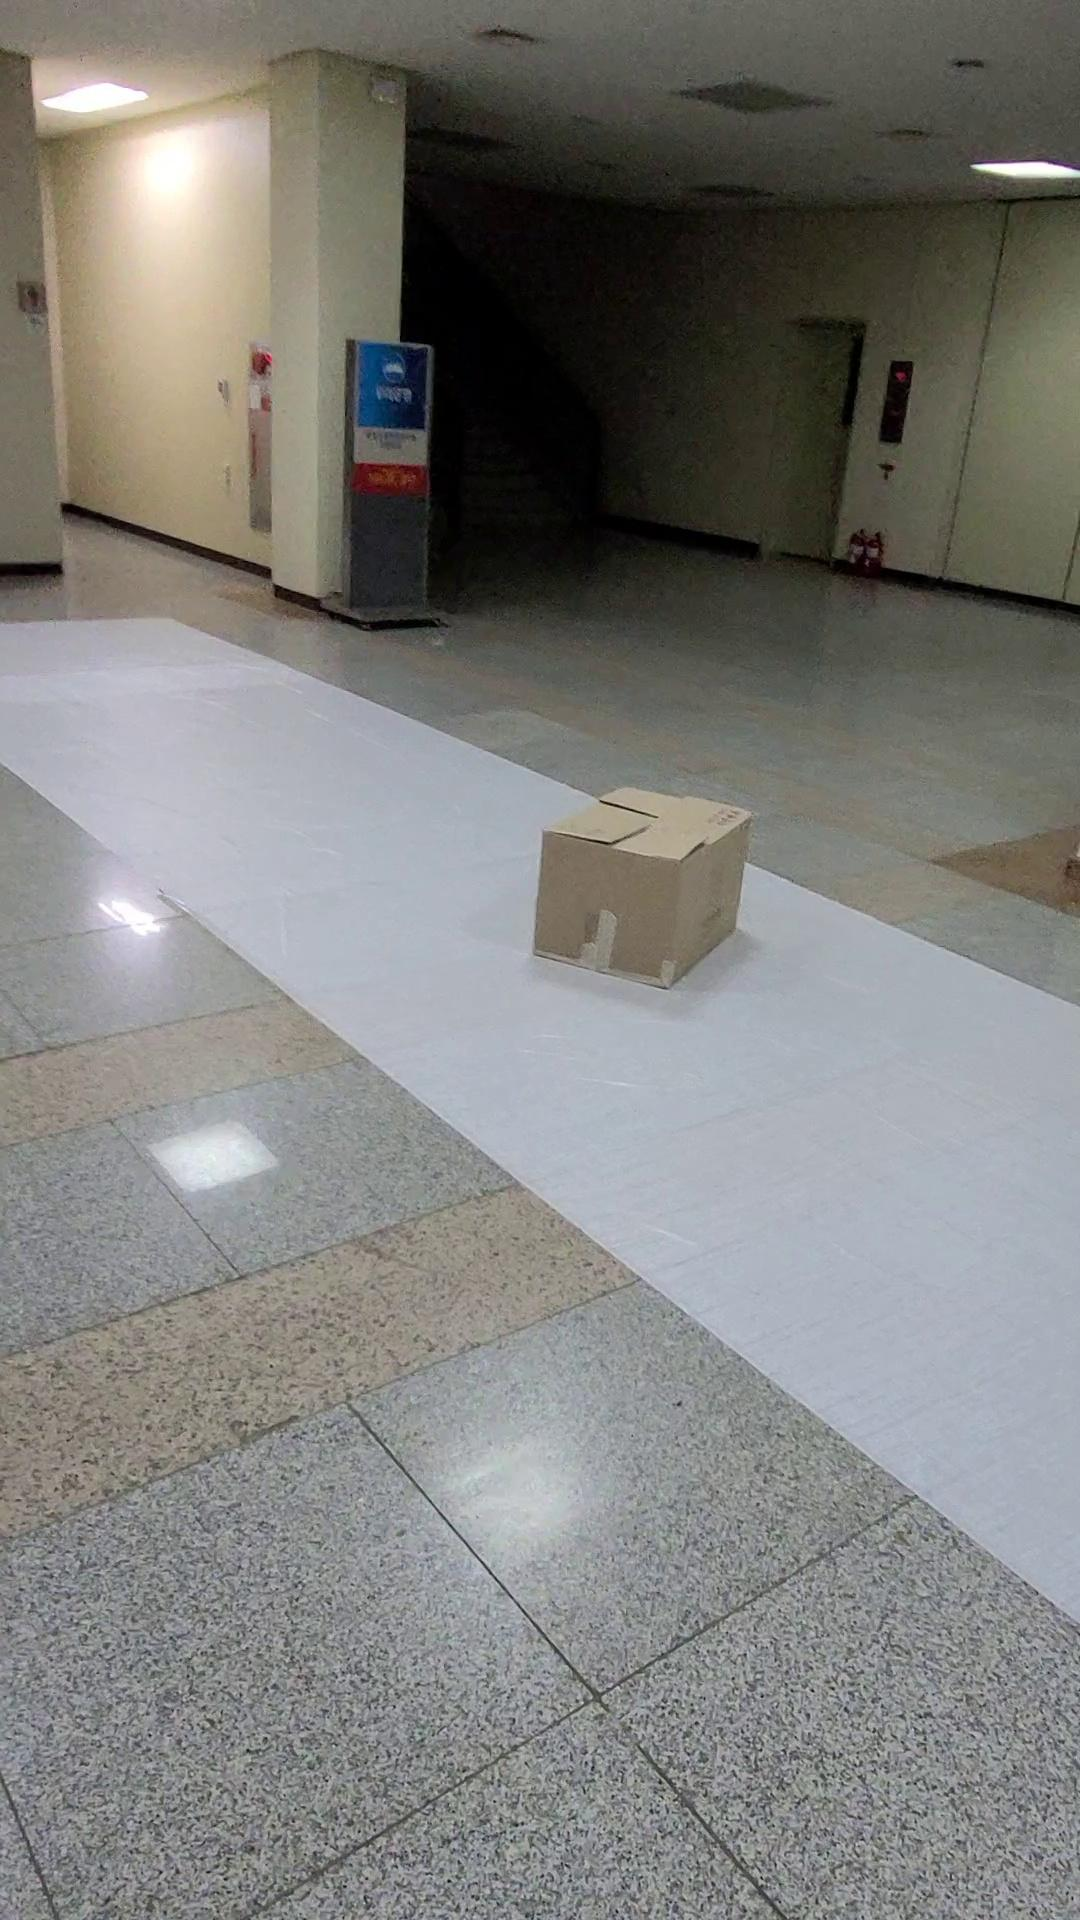Box: (516, 773, 770, 1023)
